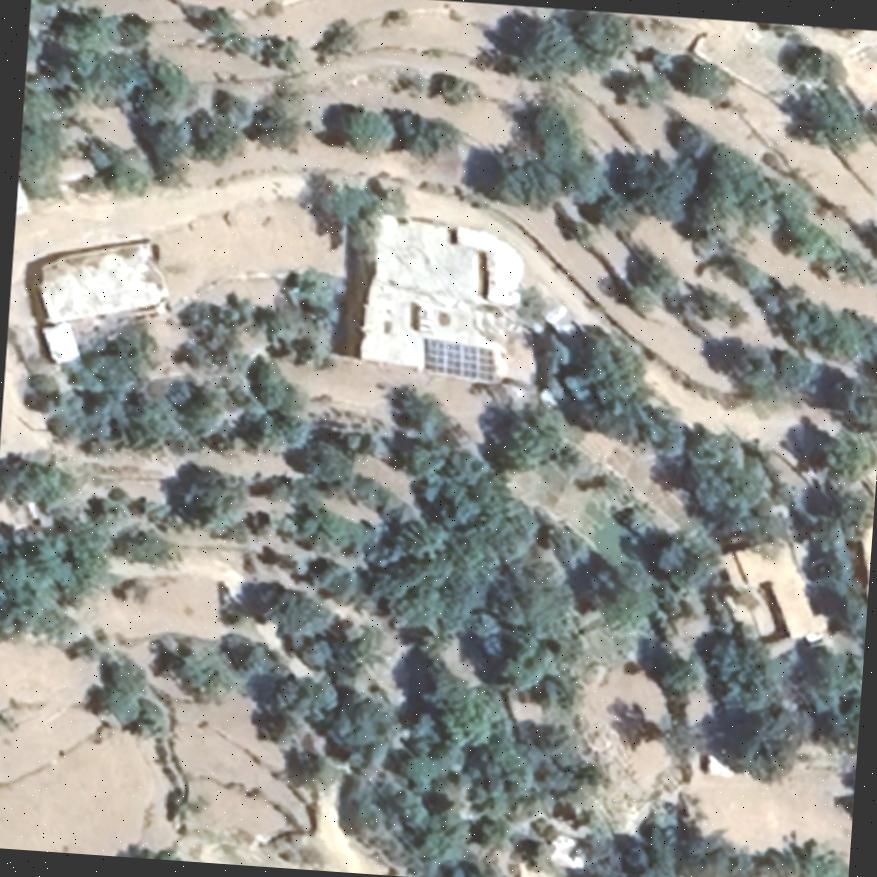Solarpanel: (418, 334, 498, 382)
